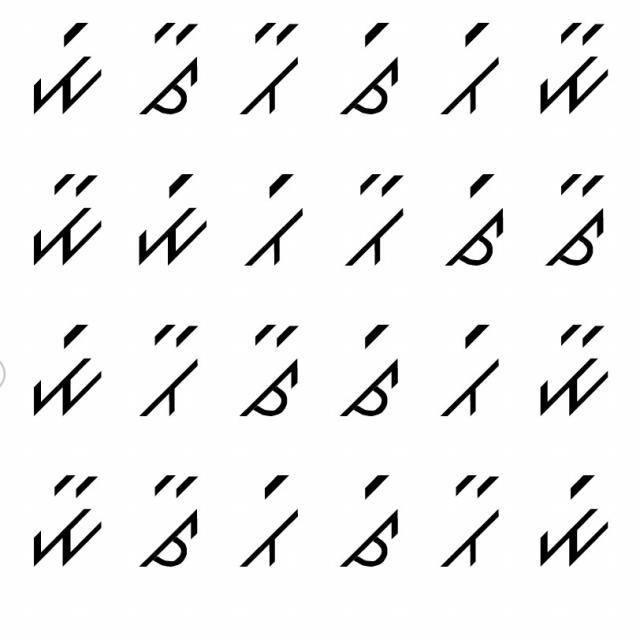ban: (336, 166, 410, 273), (133, 318, 207, 424), (439, 463, 507, 572), (236, 21, 304, 118)
bang: (235, 163, 310, 273), (232, 470, 302, 577), (433, 320, 502, 422), (441, 16, 504, 120)
can: (132, 18, 215, 122), (139, 470, 209, 577), (543, 166, 612, 271), (239, 320, 306, 422)
cang: (440, 168, 508, 272), (334, 21, 404, 121), (337, 470, 402, 574), (340, 322, 403, 423)
man: (527, 316, 615, 421), (18, 167, 107, 266), (526, 18, 614, 114), (25, 468, 109, 568)
mang: (18, 18, 110, 118), (128, 166, 212, 270), (528, 465, 612, 569), (21, 323, 105, 419)
